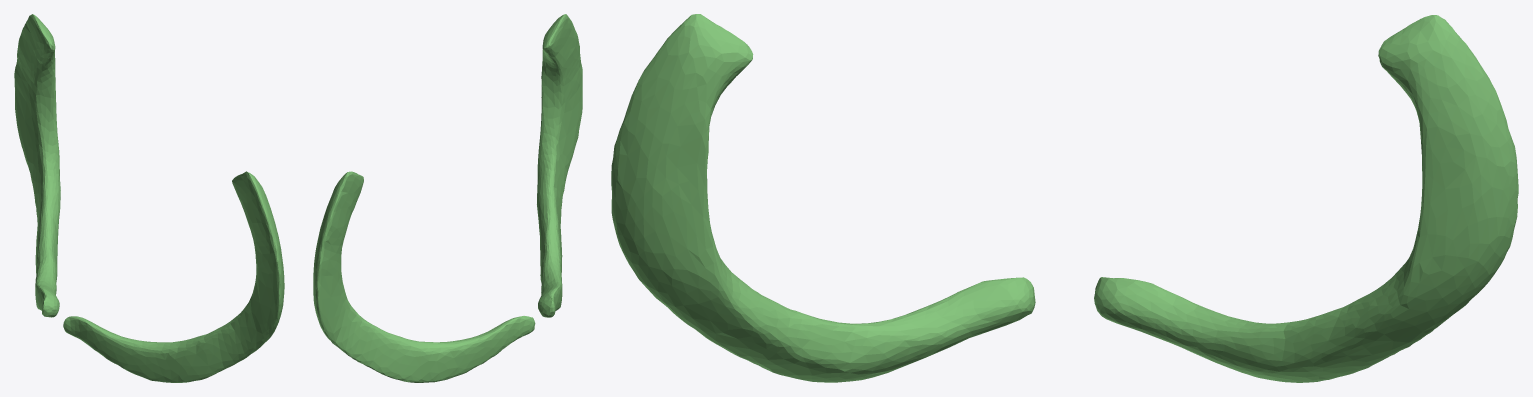
The picture shows the model from 3 angles, left to right: view 1: azimuth 30°, elevation 25°; view 2: azimuth 150°, elevation 25°; view 3: azimuth 270°, elevation 25°; orthographic projection. The views are drawn at different scales.
Visible parts, largest first — view 1: 502.obj; view 2: 502.obj; view 3: 502.obj.
Part boxes in pixels (bbox=[...]): 502.obj: bbox=[14, 14, 284, 382]; 502.obj: bbox=[313, 14, 582, 382]; 502.obj: bbox=[611, 14, 1518, 382].
Bounding box in the file's own units: 1940 × 3938 × 8057.
